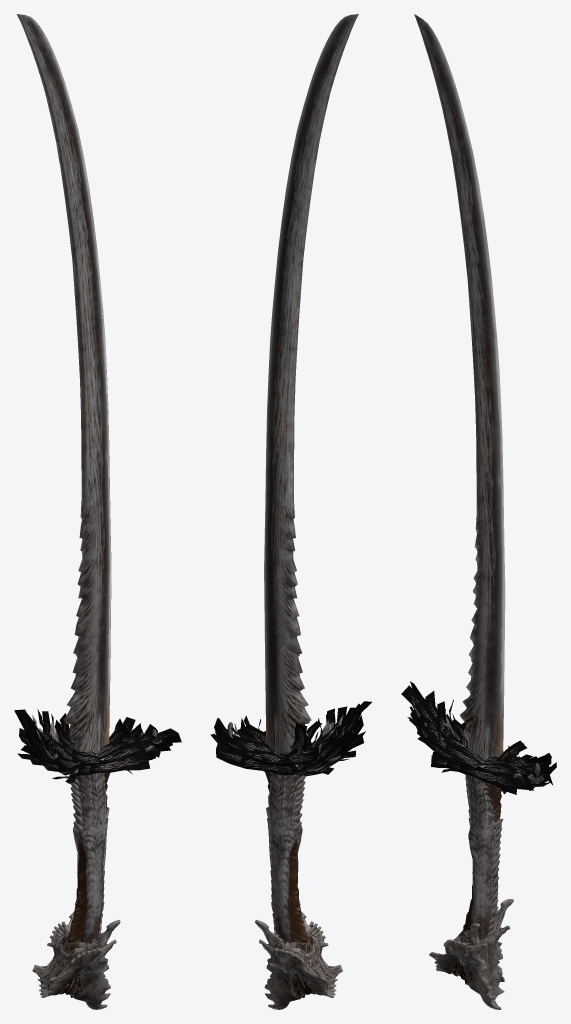
The model's file is as_pd_dragonscaleblade.glb.
The picture shows the model from 3 angles, left to right: view 1: azimuth 30°, elevation 25°; view 2: azimuth 150°, elevation 25°; view 3: azimuth 330°, elevation 25°; orthographic projection. The views are drawn at different scales.
Visible parts, largest first — view 1: DragonscaleBlade; view 2: DragonscaleBlade; view 3: DragonscaleBlade.
Part boxes in pixels (bbox=[...]): DragonscaleBlade: bbox=[14, 14, 181, 1009]; DragonscaleBlade: bbox=[210, 14, 371, 1009]; DragonscaleBlade: bbox=[401, 14, 556, 1009].
Bounding box in the file's own units: 9.5 × 58.2 × 3.97.
1 material, 1 textured.
